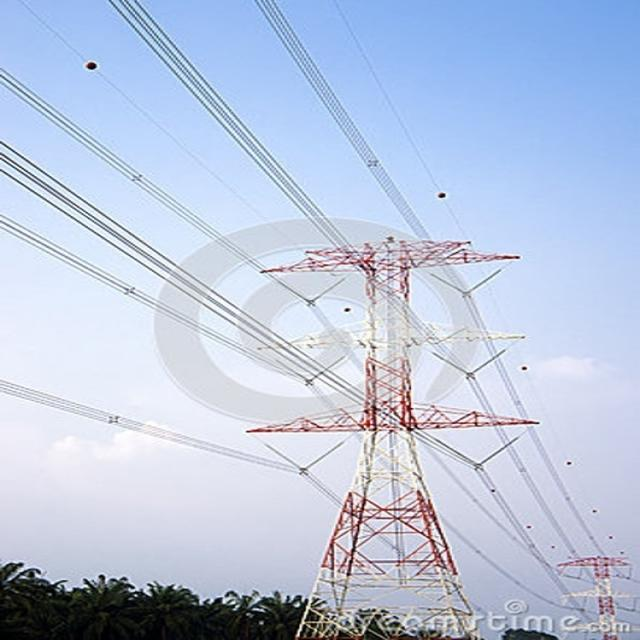non-critical vegetation: (242, 226, 522, 588)
